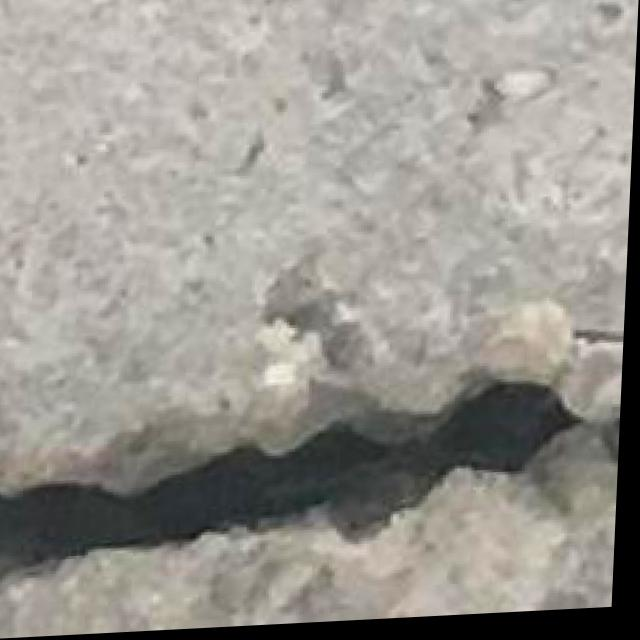Crack: (0, 335, 627, 609)
